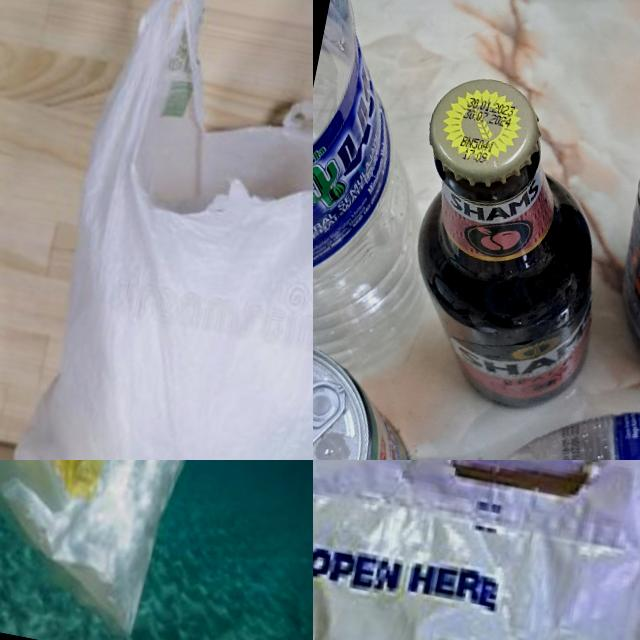aba de lata: (313, 370, 352, 460)
garrafa de vidro: (378, 70, 638, 426)
garrafa plástica: (313, 0, 485, 397), (462, 367, 640, 460)
lata: (313, 337, 437, 460)
sacola plástica: (0, 0, 313, 460), (313, 460, 640, 640), (0, 460, 280, 640)
